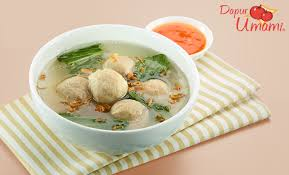bakso: (54, 46, 181, 135)
